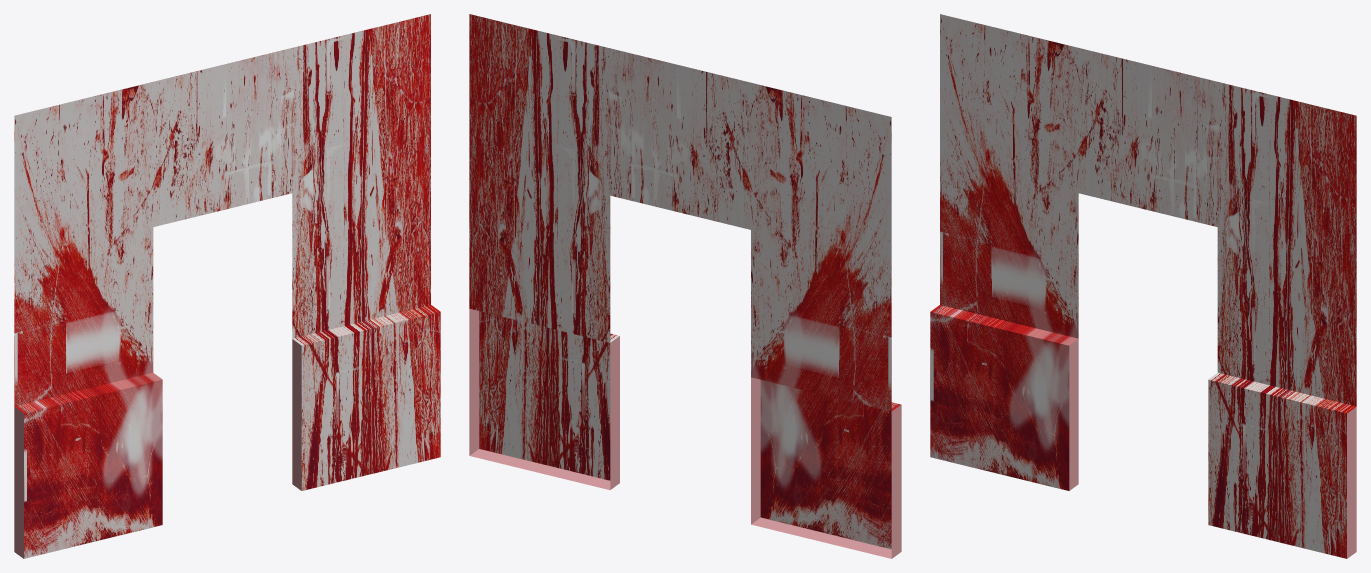
File: Marco_20.fbx
3 renders of one model, left to right at view 1: azimuth 30°, elevation 25°; view 2: azimuth 150°, elevation 25°; view 3: azimuth 330°, elevation 25°, orthographic.
Visible parts, largest first — view 1: Plane.038; view 2: Plane.038; view 3: Plane.038.
Boxes of the visible parts, x1,y1,x2,y2 form: Plane.038: [14, 14, 440, 558]; Plane.038: [469, 14, 901, 558]; Plane.038: [930, 14, 1356, 558].
Bounding box in the file's own units: 600 × 600 × 23.84.
